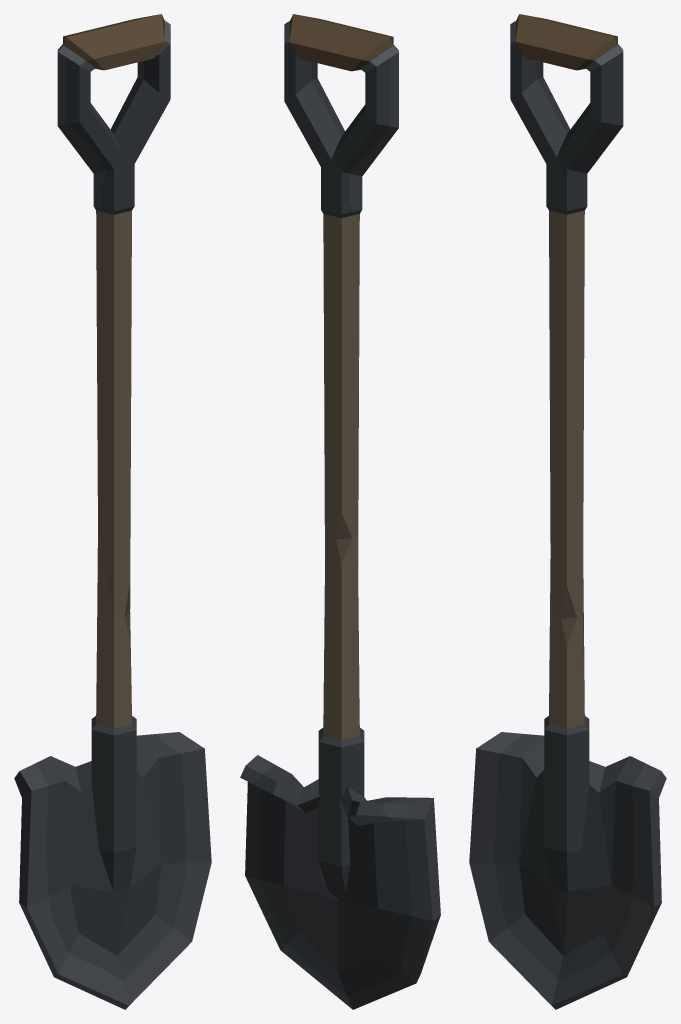
The model's file is Wep_Spade_01.glb.
The picture shows the model from 3 angles, left to right: view 1: azimuth 30°, elevation 25°; view 2: azimuth 150°, elevation 25°; view 3: azimuth 330°, elevation 25°; orthographic projection.
Visible parts, largest first — view 1: SM_Gen_Wep_Spade_01; view 2: SM_Gen_Wep_Spade_01; view 3: SM_Gen_Wep_Spade_01.
Part boxes in pixels (x1,y1,x2,y2): SM_Gen_Wep_Spade_01: [14, 14, 211, 1009]; SM_Gen_Wep_Spade_01: [240, 14, 440, 1009]; SM_Gen_Wep_Spade_01: [469, 14, 666, 1009].
Size of the model in its own units: 0.223 by 1.13 by 0.0878.
Materials: 1 (1 with a texture image).
